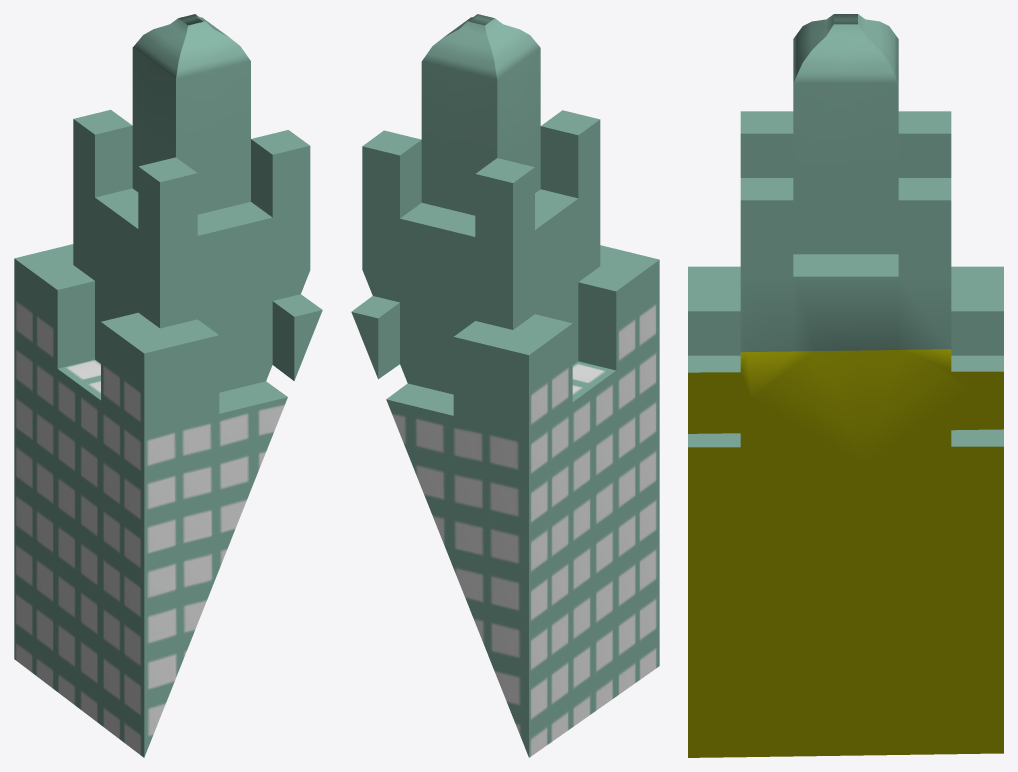
Rendered from esShard1.fbx.
3 views of the same model, side by side, from view 1: azimuth 30°, elevation 25°; view 2: azimuth 150°, elevation 25°; view 3: azimuth 270°, elevation 25° (orthographic). The views are drawn at different scales.
Parts seen in each view (by area): view 1: shard63; view 2: shard63; view 3: shard63.
Boxes of the visible parts, box(x1,y1,x2,y2) form: shard63: box(14, 14, 322, 757); shard63: box(351, 14, 659, 757); shard63: box(688, 14, 1003, 757).
Bounding box in the file's own units: 0.0809 × 0.2734 × 0.0971.
Materials: 2 (1 with a texture image).
